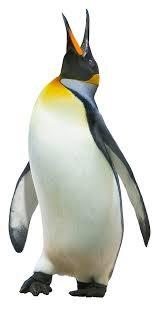king: (7, 3, 157, 320)
